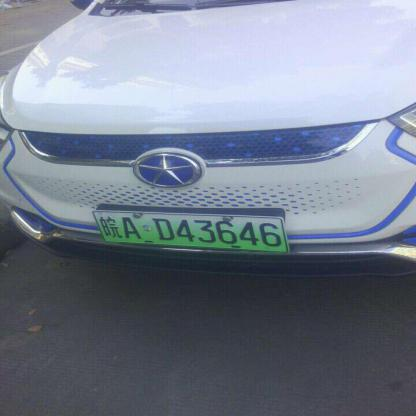lp: (93, 211, 288, 250)
